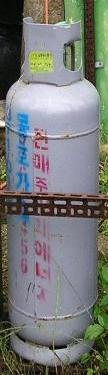cylinder: (1, 1, 108, 375)
